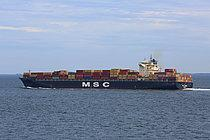Ship: (19, 42, 197, 94)
